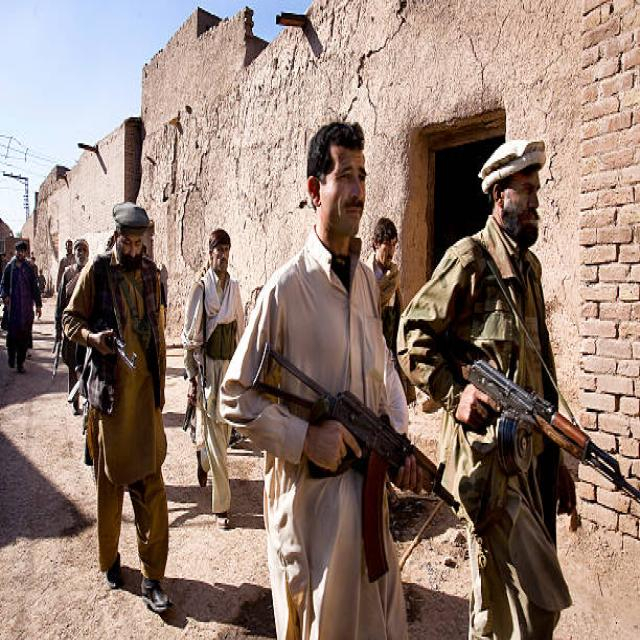civilian: (367, 217, 401, 358)
terrorist: (220, 122, 458, 638), (399, 140, 639, 638), (63, 202, 172, 612), (181, 228, 244, 528), (53, 239, 88, 394), (0, 239, 41, 371)
